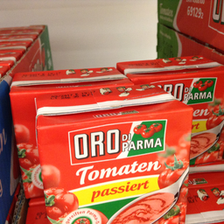tomato_sauce: (34, 85, 194, 224)
